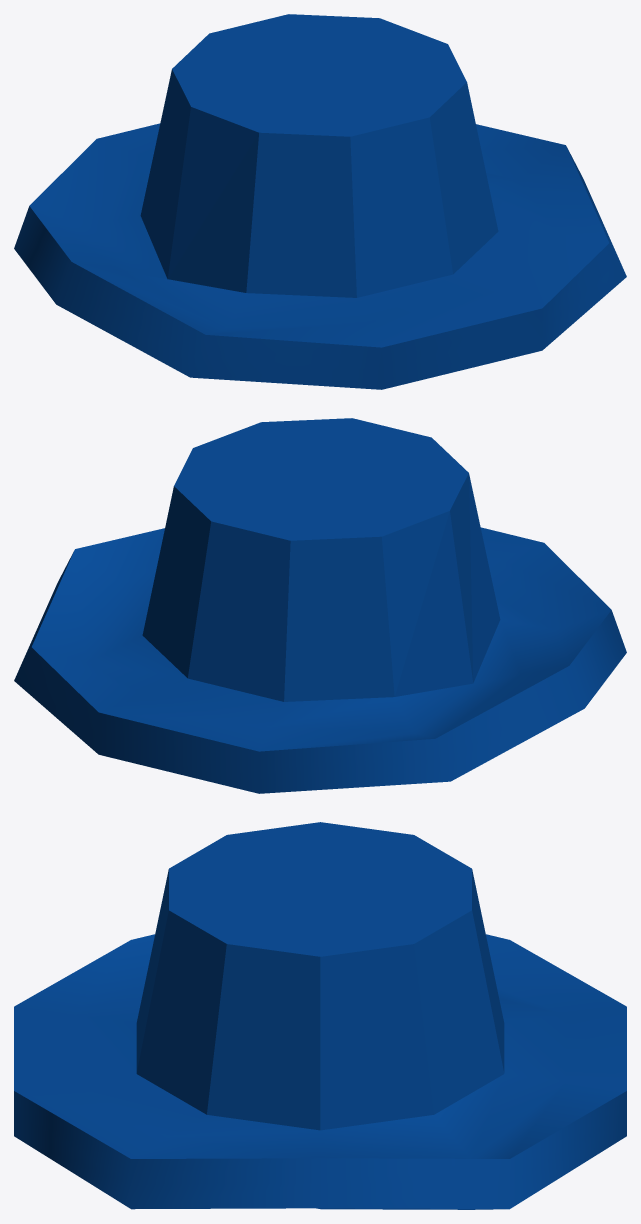
3 renders of one model, top to bottom at view 1: azimuth 30°, elevation 25°; view 2: azimuth 150°, elevation 25°; view 3: azimuth 270°, elevation 25°, orthographic. The views are drawn at different scales.
Visible parts, largest first — view 1: Cylinder001; view 2: Cylinder001; view 3: Cylinder001.
Boxes of the visible parts, x1,y1,x2,y2 form: Cylinder001: [14, 14, 626, 389]; Cylinder001: [14, 418, 626, 793]; Cylinder001: [14, 822, 626, 1209].
Bounding box in the file's own units: 48.54 × 18.43 × 45.47.
